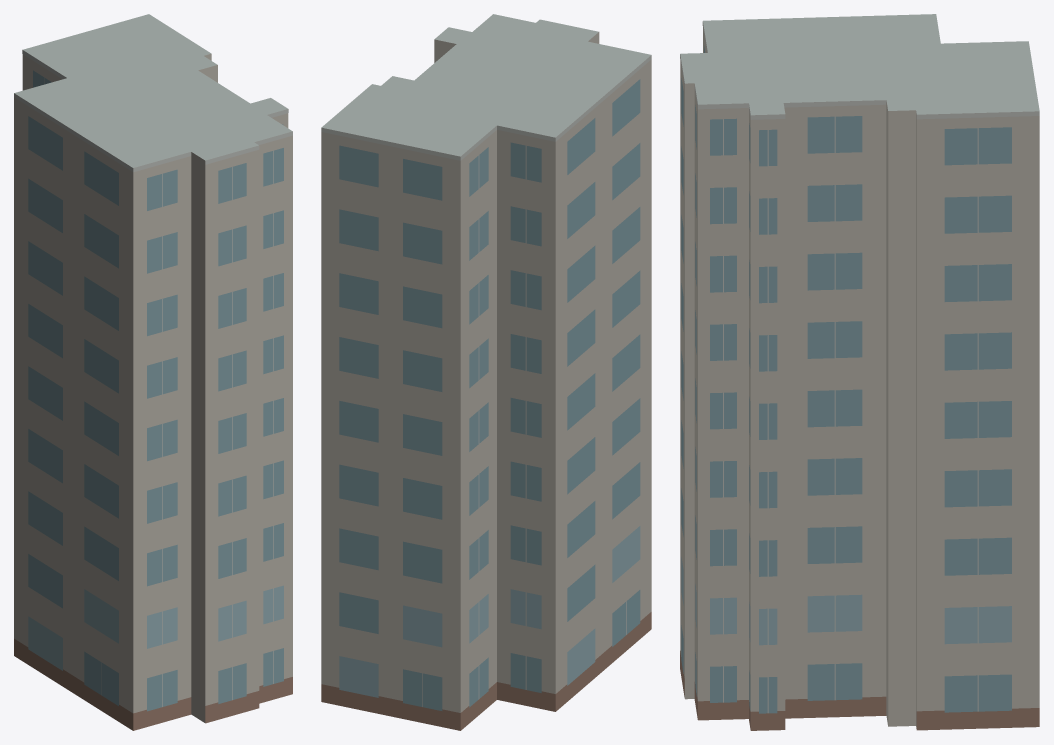
File: survey-upis-32742292.glb
3 views of the same model, side by side, from view 1: azimuth 30°, elevation 25°; view 2: azimuth 150°, elevation 25°; view 3: azimuth 270°, elevation 25° (orthographic). The views are drawn at different scales.
Visible parts, largest first — view 1: survey-upis-32742292.tmp; view 2: survey-upis-32742292.tmp; view 3: survey-upis-32742292.tmp.
Part boxes in pixels (x1=…): survey-upis-32742292.tmp: x1=14, y1=14, x2=292, y2=730; survey-upis-32742292.tmp: x1=321, y1=14, x2=651, y2=730; survey-upis-32742292.tmp: x1=680, y1=14, x2=1039, y2=730.
Size of the model in its own units: 11.54 by 32.7 by 17.32.
